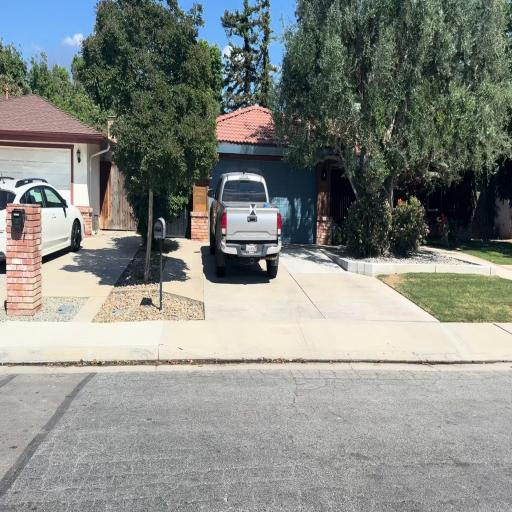target1: (250, 204, 256, 216)
